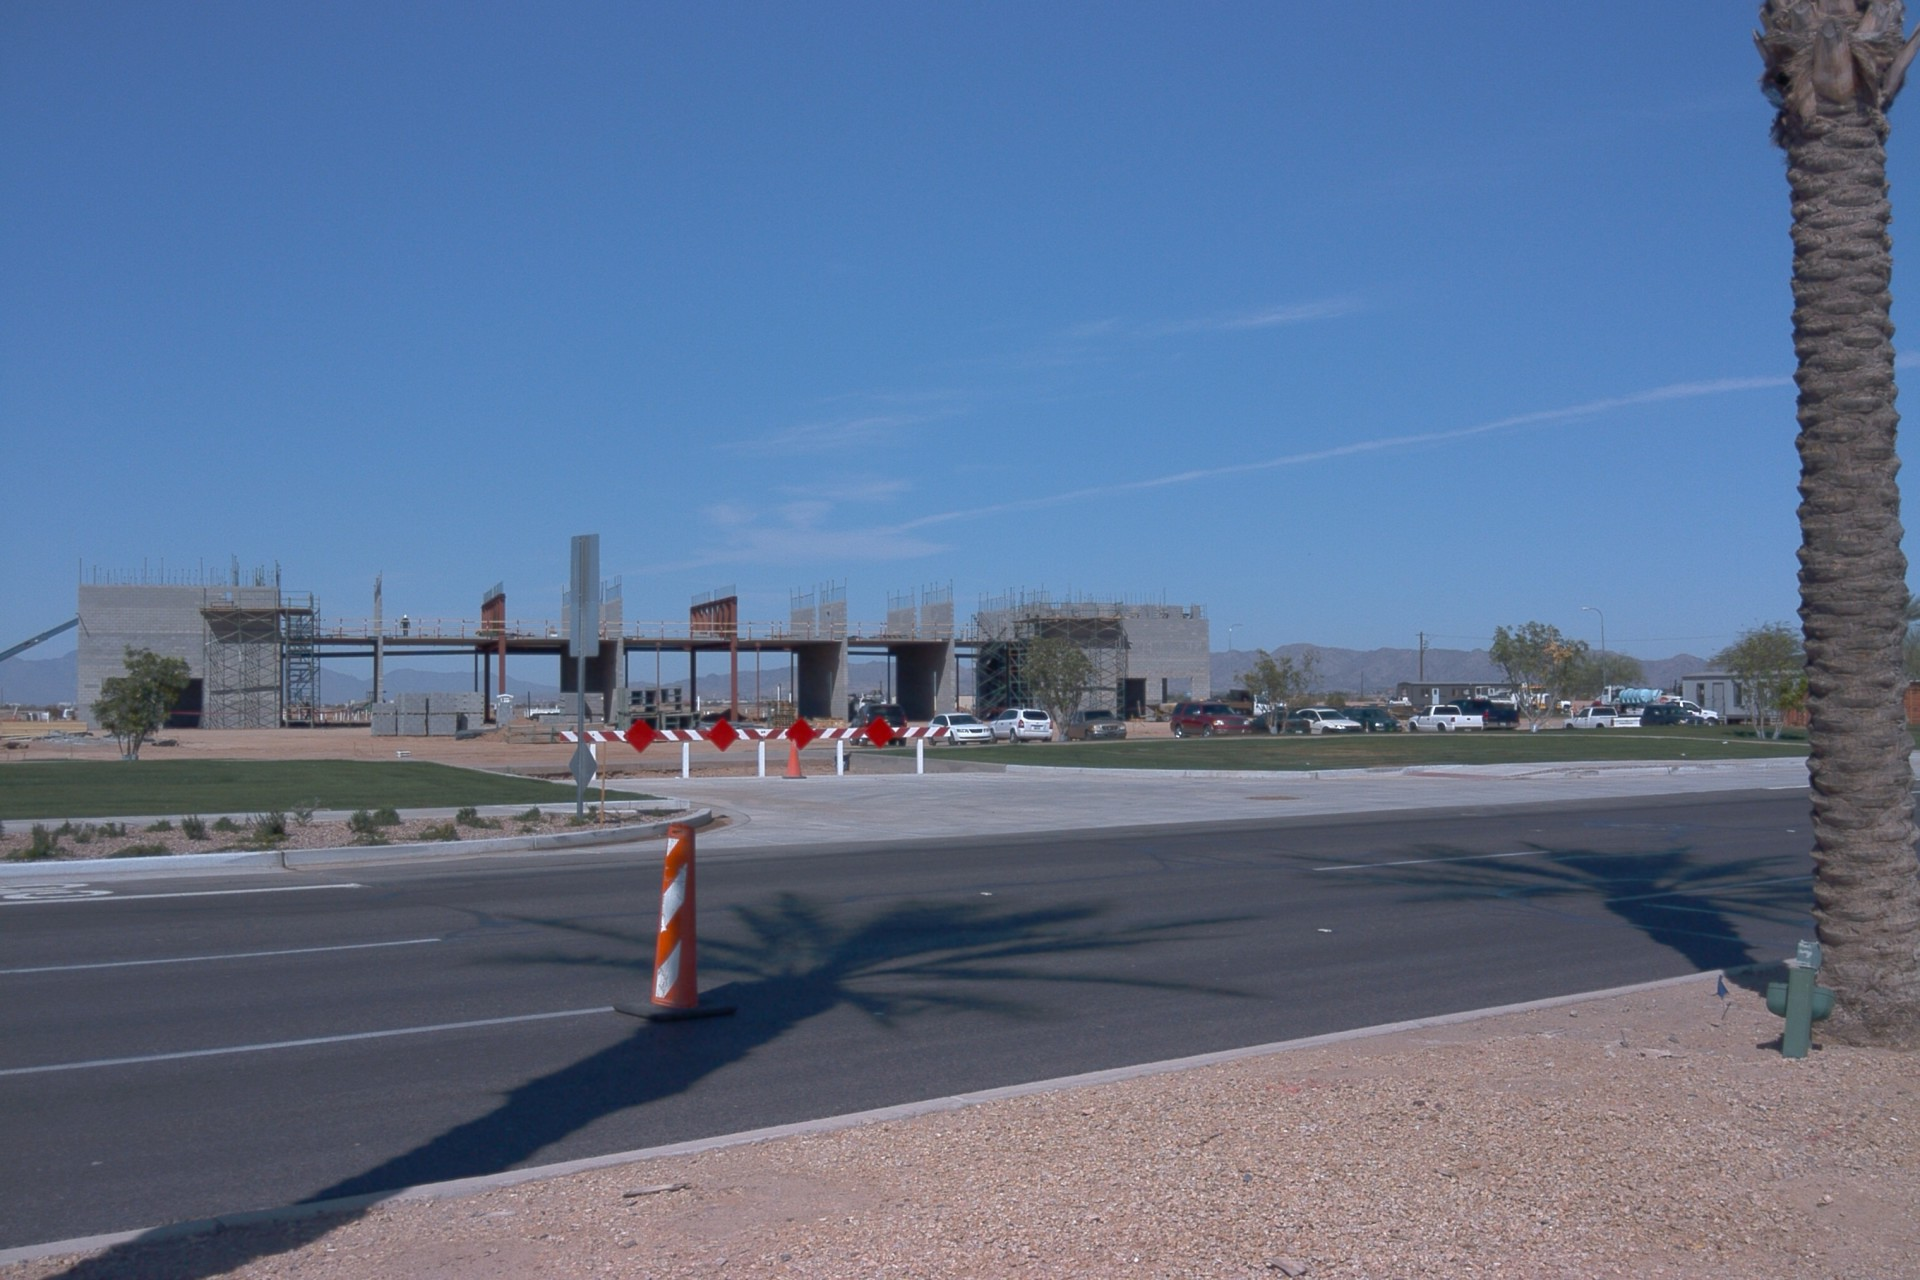TYPE_VEHICLE: (0, 610, 94, 664), (0, 610, 94, 664), (0, 610, 94, 664), (0, 610, 94, 664), (1169, 696, 1251, 739), (1169, 696, 1251, 739), (1169, 696, 1251, 739), (1169, 696, 1251, 739), (1476, 679, 1563, 719), (1476, 679, 1563, 719), (1476, 679, 1563, 719), (1476, 679, 1563, 719), (1626, 694, 1721, 729), (1626, 694, 1721, 729), (1626, 694, 1721, 729), (1626, 694, 1721, 729), (849, 701, 910, 749), (849, 701, 910, 749), (849, 701, 910, 749), (849, 701, 910, 749), (926, 714, 993, 756), (926, 714, 993, 756), (926, 714, 993, 756), (926, 714, 993, 756), (1056, 704, 1121, 746), (1056, 704, 1121, 746), (1056, 704, 1121, 746), (1056, 704, 1121, 746), (1444, 697, 1520, 733), (1444, 697, 1520, 733), (1444, 697, 1520, 733), (1444, 697, 1520, 733), (989, 706, 1053, 747), (989, 706, 1053, 747), (989, 706, 1053, 747), (989, 706, 1053, 747), (1410, 700, 1489, 733), (1410, 700, 1489, 733), (1410, 700, 1489, 733), (1410, 700, 1489, 733), (1217, 687, 1284, 720), (1217, 687, 1284, 720), (1217, 687, 1284, 720), (1217, 687, 1284, 720), (1296, 707, 1361, 739), (1296, 707, 1361, 739), (1296, 707, 1361, 739), (1296, 707, 1361, 739), (1251, 707, 1311, 741), (1251, 707, 1311, 741), (1251, 707, 1311, 741), (1251, 707, 1311, 741), (1616, 706, 1704, 727), (1616, 706, 1704, 727), (1616, 706, 1704, 727), (1616, 706, 1704, 727), (1560, 706, 1639, 727), (1560, 706, 1639, 727), (1560, 706, 1639, 727), (1560, 706, 1639, 727), (1594, 687, 1667, 709), (1594, 687, 1667, 709), (1594, 687, 1667, 709), (1594, 687, 1667, 709), (1337, 706, 1401, 729), (1337, 706, 1401, 729), (1337, 706, 1401, 729), (1337, 706, 1401, 729), (847, 693, 890, 717), (847, 693, 890, 717), (847, 693, 890, 717), (847, 693, 890, 717)
